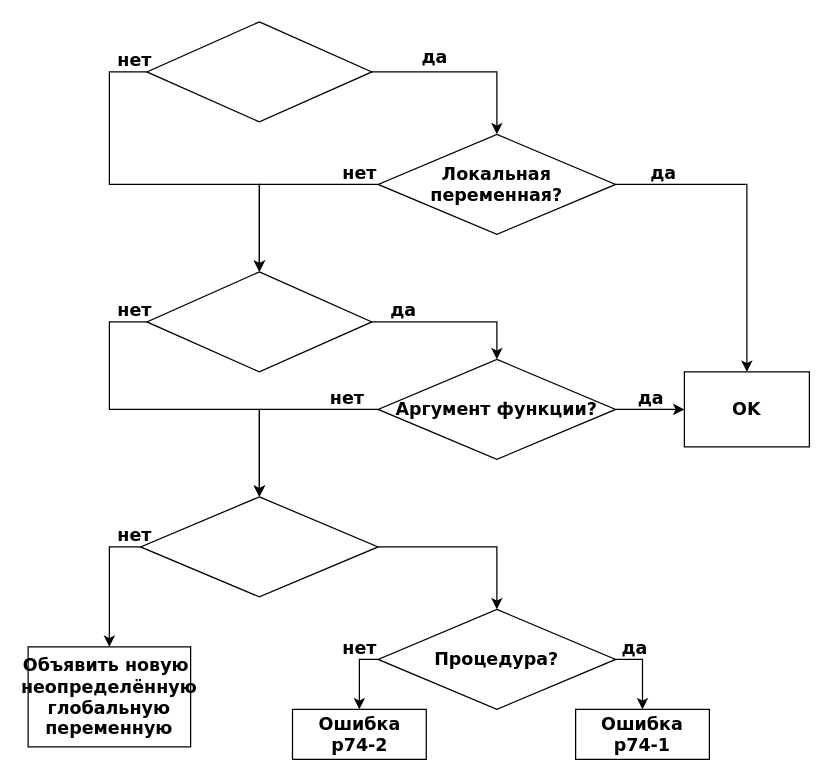
This 831x781 diagram has some shape labels left out. Each missing label, with the centre of its shape:
"Внутри тела let?" belongs at (259,71).
"Внутри функции?" belongs at (259,321).
"Глобальное имя?" belongs at (258,546).
